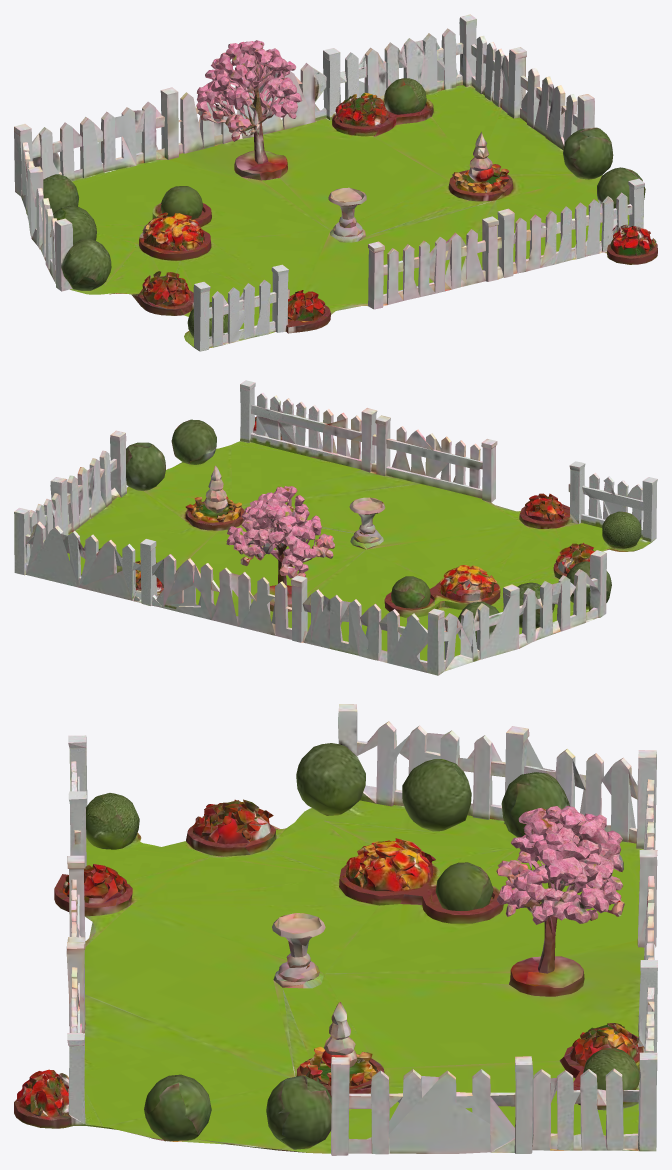
The model's file is ilha-jardim.glb.
3 views of the same model, one above another, from view 1: azimuth 30°, elevation 25°; view 2: azimuth 150°, elevation 25°; view 3: azimuth 270°, elevation 25° (orthographic). The views are drawn at different scales.
Size of the model in its own units: 1.9 by 0.4323 by 1.42.
Materials: 1 (1 with a texture image).
